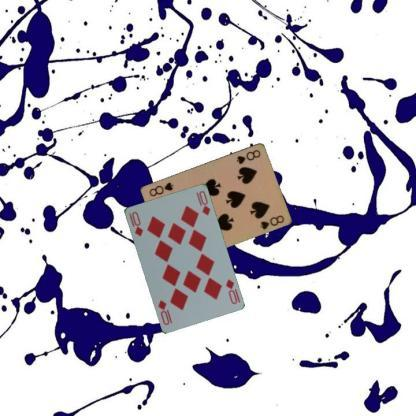10d: (126, 208, 144, 238), (223, 276, 241, 305)
8s: (234, 146, 262, 166)
